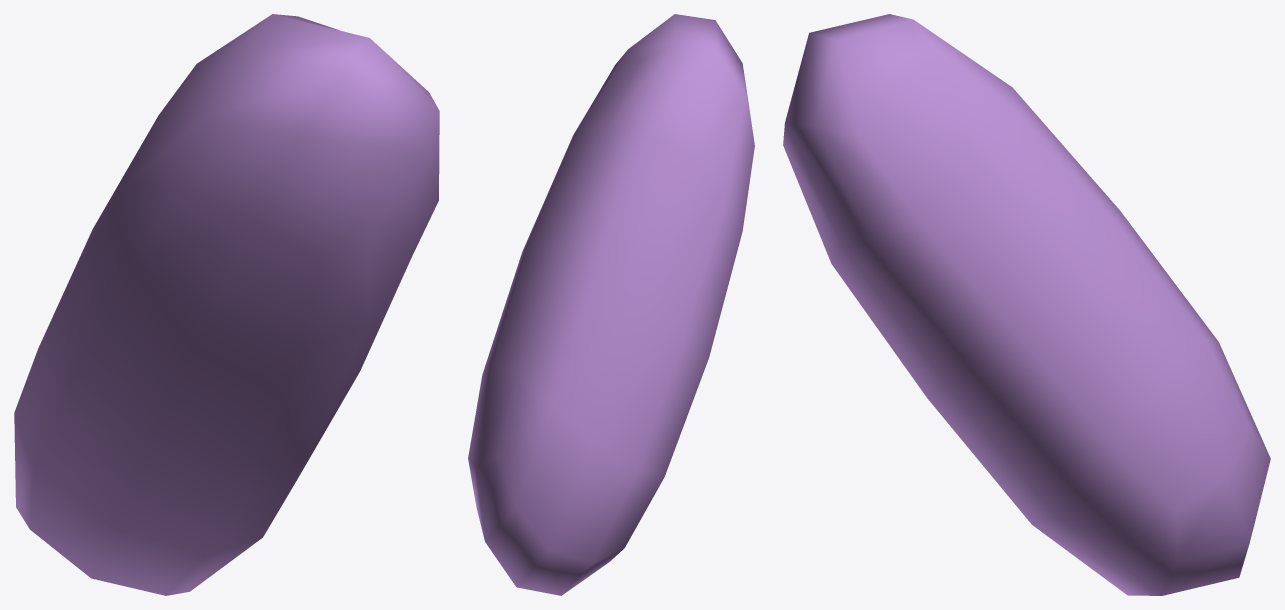
3 renders of one model, left to right at view 1: azimuth 30°, elevation 25°; view 2: azimuth 150°, elevation 25°; view 3: azimuth 270°, elevation 25°, orthographic. The views are drawn at different scales.
Visible parts, largest first — view 1: 左侧下甲状旁腺; view 2: 左侧下甲状旁腺; view 3: 左侧下甲状旁腺.
Boxes of the visible parts, x1=… form: 左侧下甲状旁腺: x1=14, y1=14, x2=439, y2=595; 左侧下甲状旁腺: x1=468, y1=14, x2=754, y2=595; 左侧下甲状旁腺: x1=783, y1=14, x2=1270, y2=595.
Bounding box in the file's own units: 0.00245 × 0.00555 × 0.00439.
